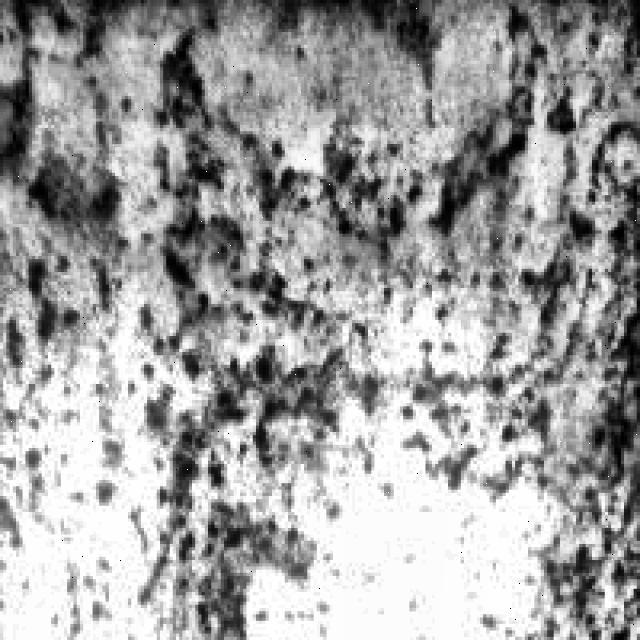Rolled_in_Scale: (10, 38, 640, 604)
